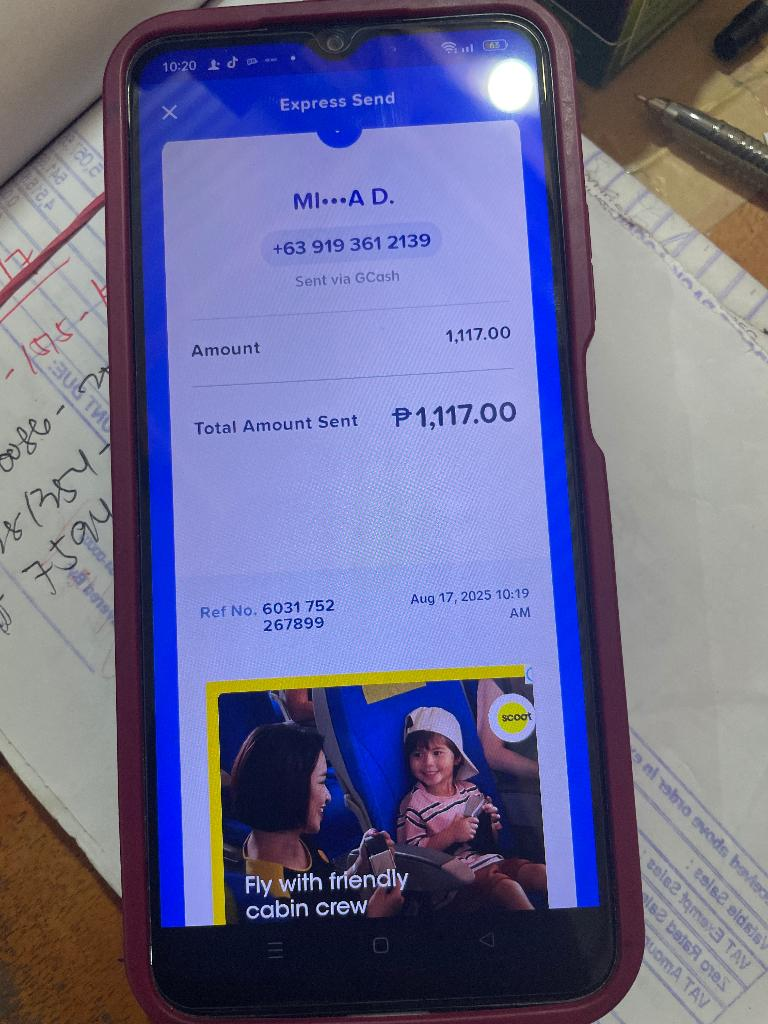Receipt: (137, 58, 597, 928)
